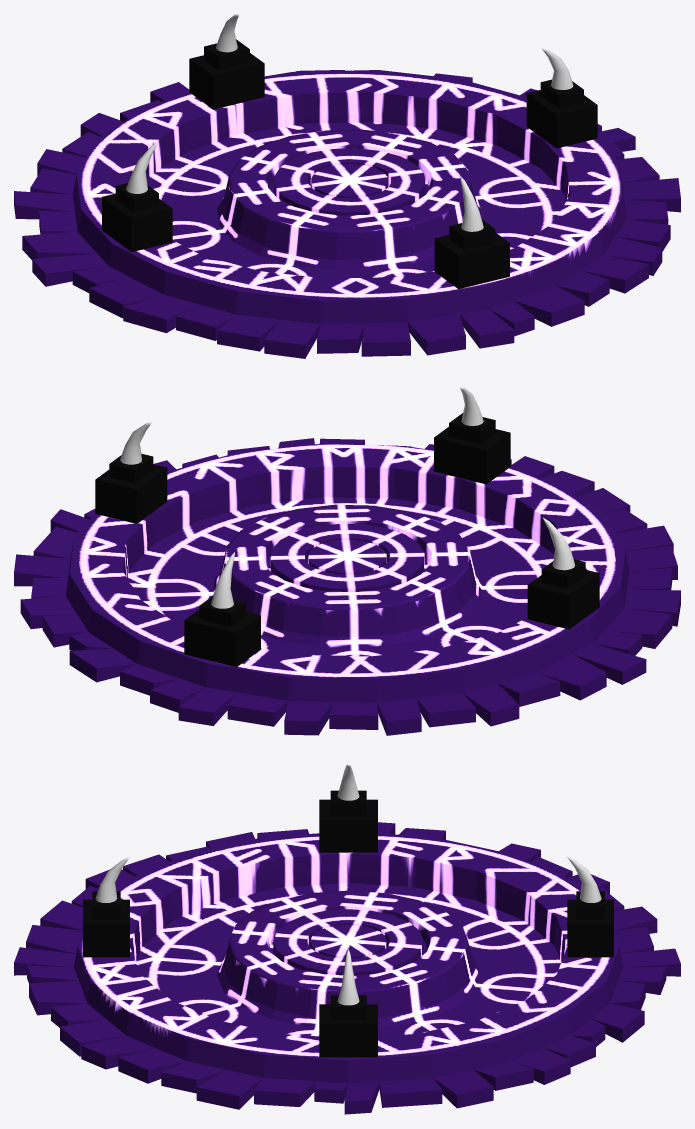
File: magic_circle.fbx
3 views of the same model, one above another, from view 1: azimuth 30°, elevation 25°; view 2: azimuth 150°, elevation 25°; view 3: azimuth 270°, elevation 25° (orthographic). The views are drawn at different scales.
Visible parts, largest first — view 1: base, spire_base3, spire_base4, spire_base1, spire_base2, spire_top4, spire_top2, spire_top1, spire_top3; view 2: base, spire_base4, spire_base3, spire_base1, spire_base2, spire_top2, spire_top3, spire_top1, spire_top4; view 3: base, spire_base1, spire_base2, spire_base4, spire_base3, spire_top1, spire_top3, spire_top4.
Boxes of the visible parts, box(x1,y1,x2,y2) form: base: box(14, 70, 680, 358); spire_base3: box(189, 39, 264, 109); spire_base4: box(434, 219, 509, 289); spire_base1: box(526, 79, 597, 148); spire_base2: box(102, 183, 172, 251); spire_top4: box(460, 176, 483, 231); spire_top2: box(126, 142, 157, 193); spire_top1: box(541, 48, 573, 89); spire_top3: box(216, 14, 239, 52); base: box(14, 438, 680, 735); spire_base4: box(434, 413, 510, 484); spire_base3: box(184, 596, 260, 666); spire_base1: box(95, 453, 167, 523); spire_base2: box(527, 559, 599, 629); spire_top2: box(542, 517, 574, 570); spire_top3: box(211, 552, 234, 608); spire_top1: box(120, 422, 152, 464); spire_top4: box(460, 387, 483, 425); base: box(14, 822, 680, 1114); spire_base1: box(319, 995, 377, 1057); spire_base2: box(319, 790, 377, 852); spire_base4: box(83, 891, 129, 957); spire_base3: box(567, 891, 613, 957); spire_top1: box(337, 949, 359, 1005); spire_top3: box(567, 857, 601, 902); spire_top4: box(95, 857, 129, 902).
Size of the model in its own units: 331 by 66.95 by 333.
